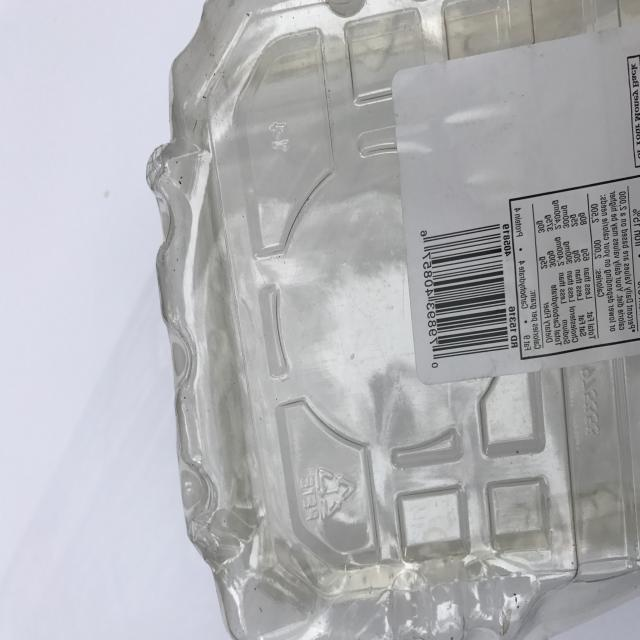plastic: (146, 0, 640, 640)
